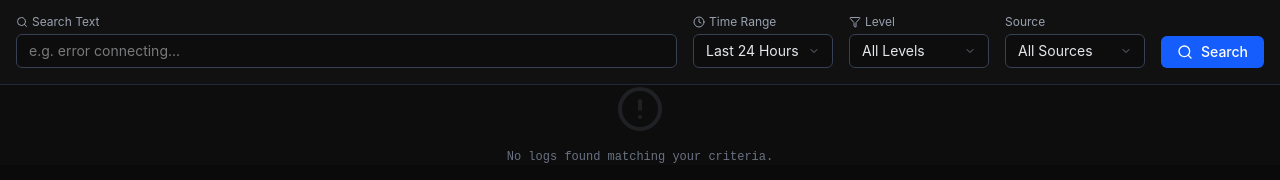
Test: log search filter controls › ignores a prior service source lookup after changing services
The image size is (1280, 180).
Click the button labelled "All Sources" at (1075, 51), box [1005,34,1145,68]
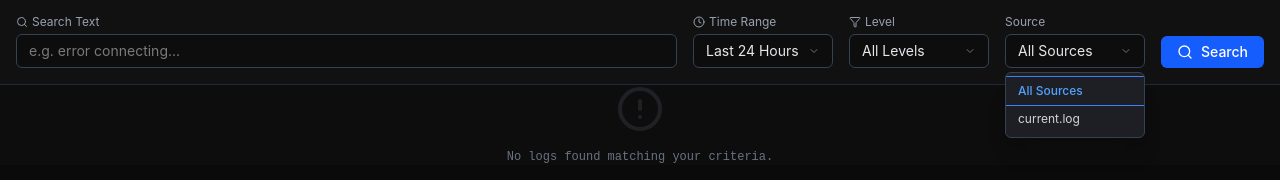
Check: the button "current.log" is shown, box [1006,105,1144,133]
